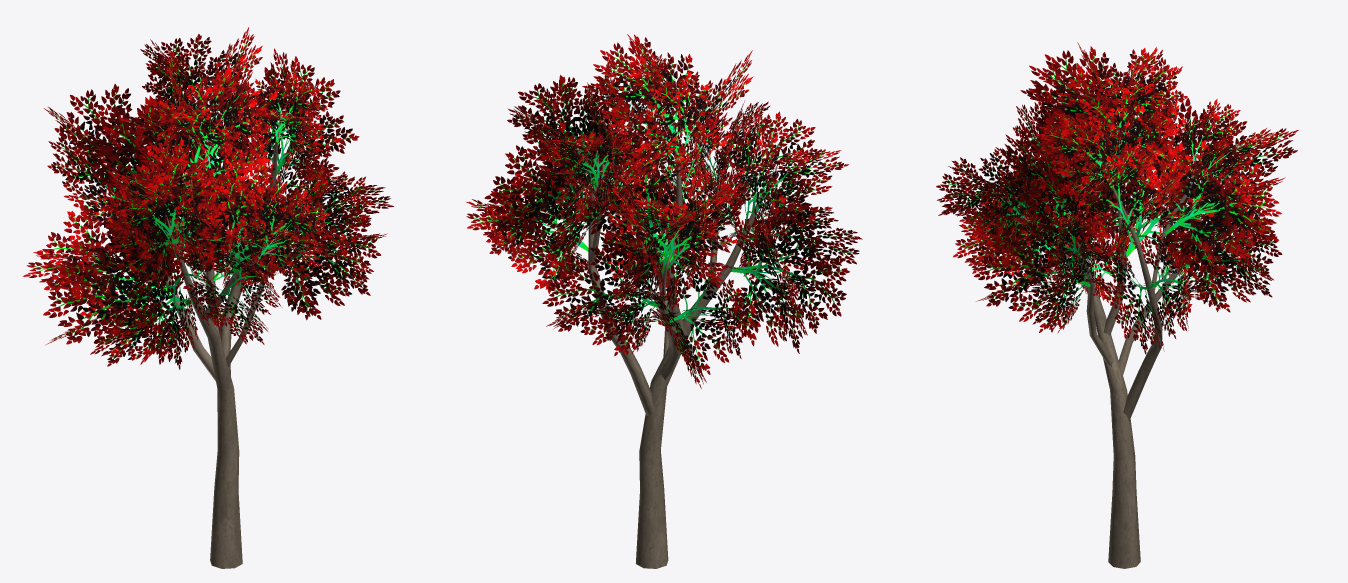
The model's file is SM_Tree_Tall_02.fbx.
The picture shows the model from 3 angles, left to right: view 1: azimuth 30°, elevation 25°; view 2: azimuth 150°, elevation 25°; view 3: azimuth 270°, elevation 25°; orthographic projection. The views are drawn at different scales.
Parts seen in each view (by area): view 1: SM_Tree_Tall_02_LOD0; view 2: SM_Tree_Tall_02_LOD0; view 3: SM_Tree_Tall_02_LOD0.
Boxes of the visible parts, x1,y1,x2,y2 form: SM_Tree_Tall_02_LOD0: (23, 27, 393, 568); SM_Tree_Tall_02_LOD0: (466, 34, 862, 568); SM_Tree_Tall_02_LOD0: (936, 42, 1298, 568).
Size of what is drawn, in the model's own units: 962 by 1318 by 953.
